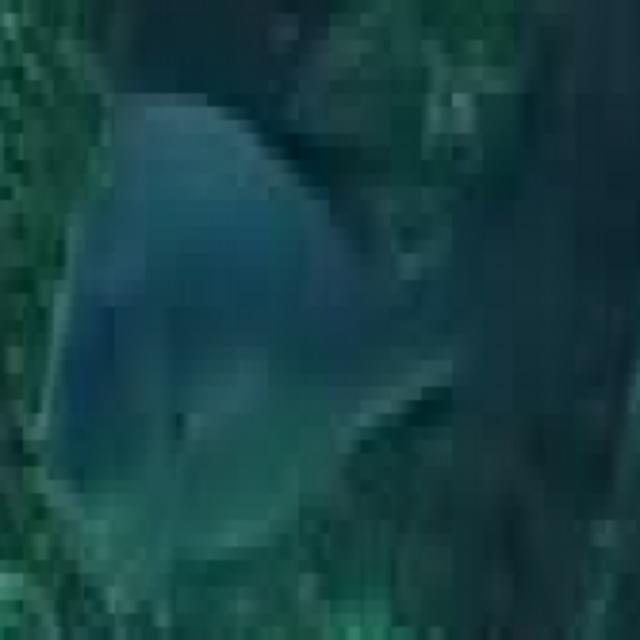fish: (4, 13, 640, 640)
